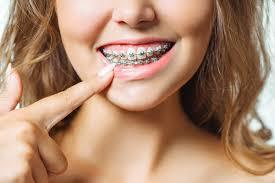Braces: (100, 44, 172, 68)
